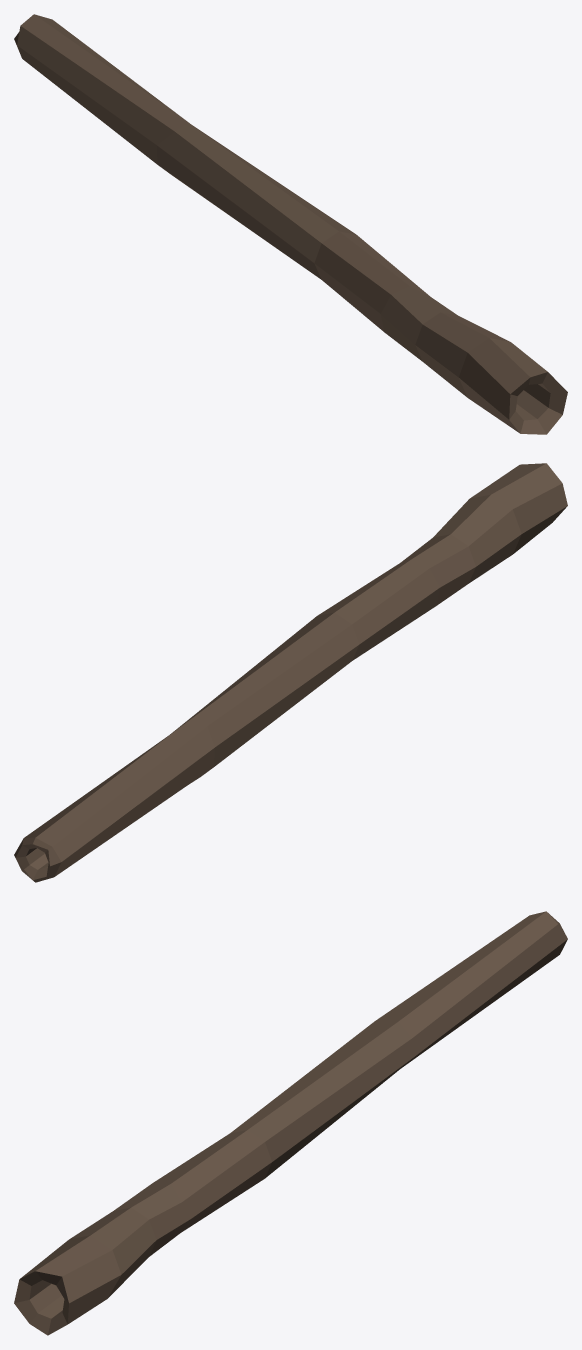
The model's file is didgeridoo.glb.
The picture shows the model from 3 angles, top to bottom: view 1: azimuth 30°, elevation 25°; view 2: azimuth 150°, elevation 25°; view 3: azimuth 330°, elevation 25°; orthographic projection.
Visible parts, largest first — view 1: Doo; view 2: Doo; view 3: Doo.
Boxes of the visible parts, bbox=[...] form: Doo: bbox=[14, 14, 567, 434]; Doo: bbox=[14, 463, 567, 882]; Doo: bbox=[14, 911, 567, 1335].
Size of the model in its own units: 0.268 by 0.268 by 3.85.
